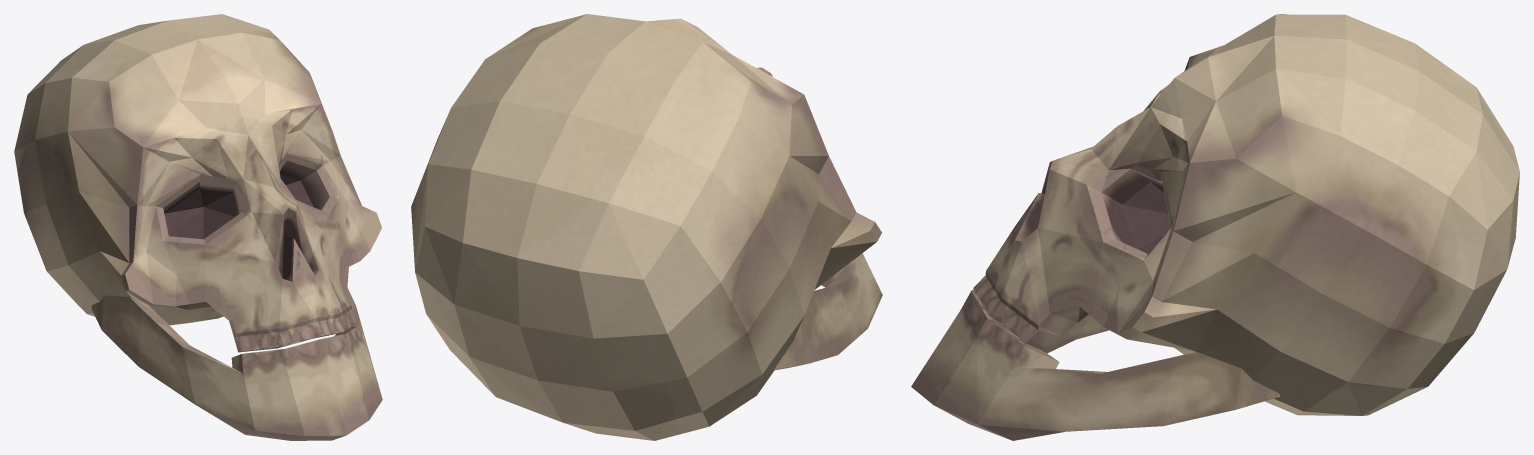
Rendered from skull_monster.obj.
The picture shows the model from 3 angles, left to right: view 1: azimuth 30°, elevation 25°; view 2: azimuth 150°, elevation 25°; view 3: azimuth 270°, elevation 25°; orthographic projection. The views are drawn at different scales.
Visible parts, largest first — view 1: Cube; view 2: Cube; view 3: Cube.
Part boxes in pixels (<box>): Cube: <box>14,14,382,440</box>; Cube: <box>411,14,882,440</box>; Cube: <box>911,14,1519,440</box>.
Bounding box in the file's own units: 3.36 × 3.69 × 5.5.
Materials: 1 (1 with a texture image).
